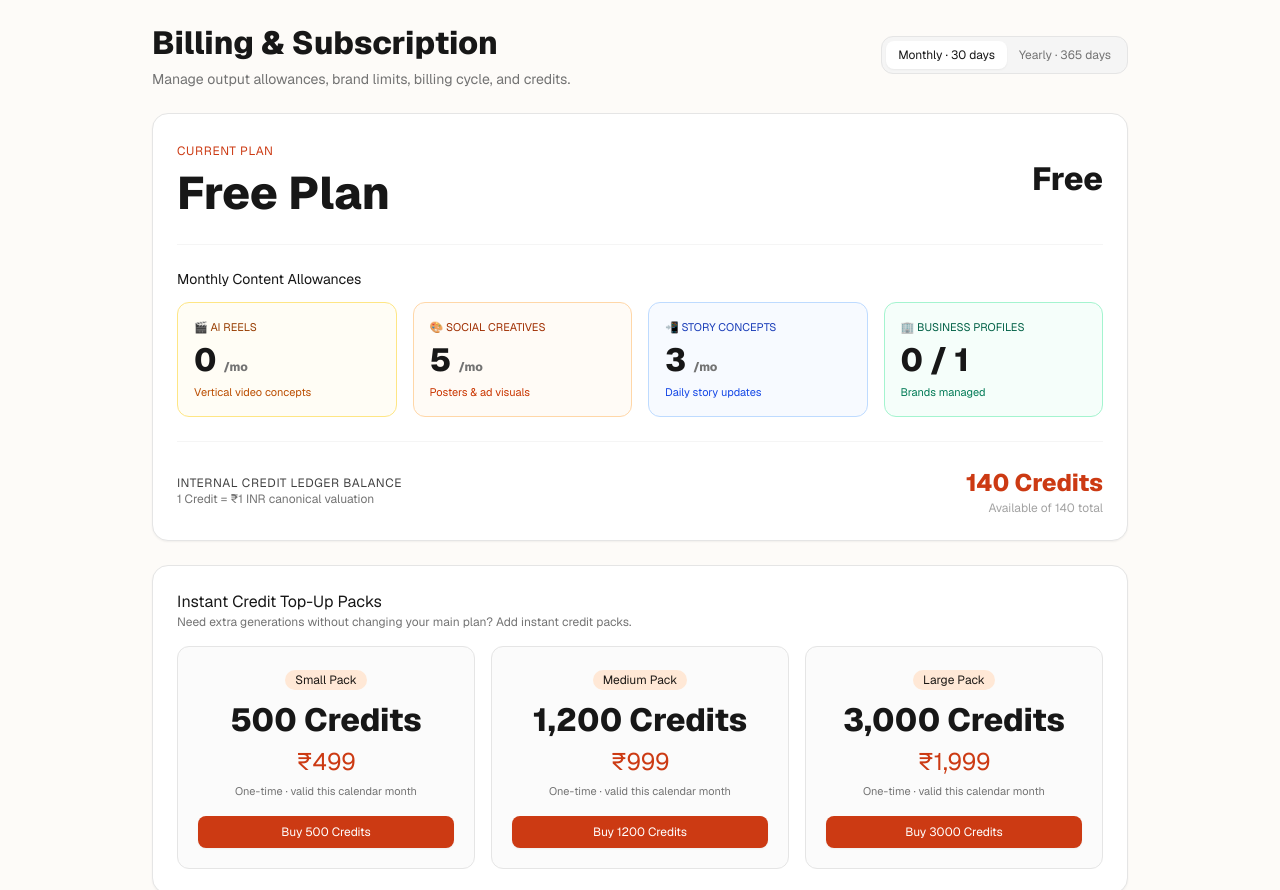
BillingPage — Cashfree pricing & checkout › failure: createCashfreeCheckout rejecting shows the error in the confirmation and allows a retry
Step 1. Click the button "Yearly · 365 days" → {"x": 1065, "y": 55}, box 1007,41 -> 1123,69
(page scrolled)
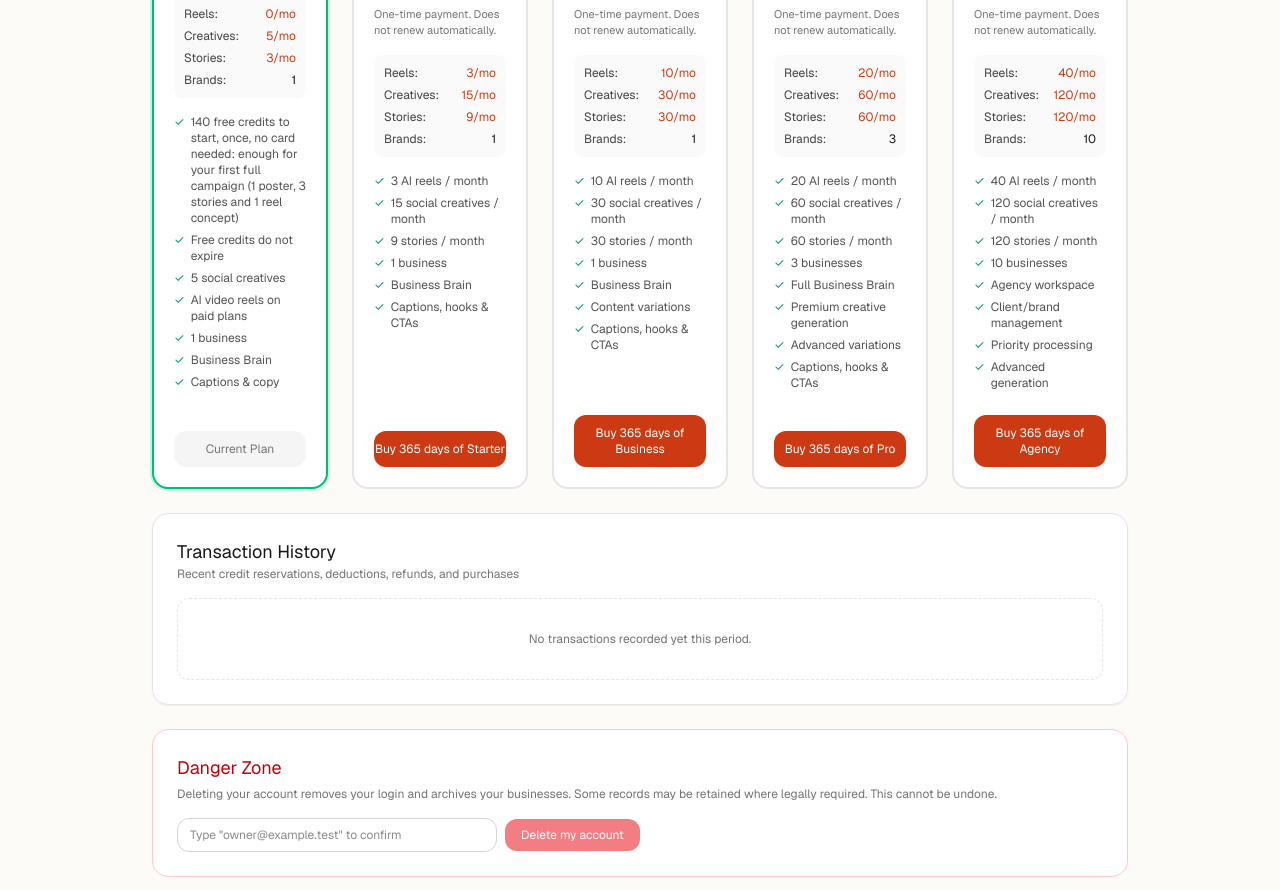
Step 2. Click the button "Buy 365 days of Business" → {"x": 640, "y": 441}, box 574,415 -> 706,467
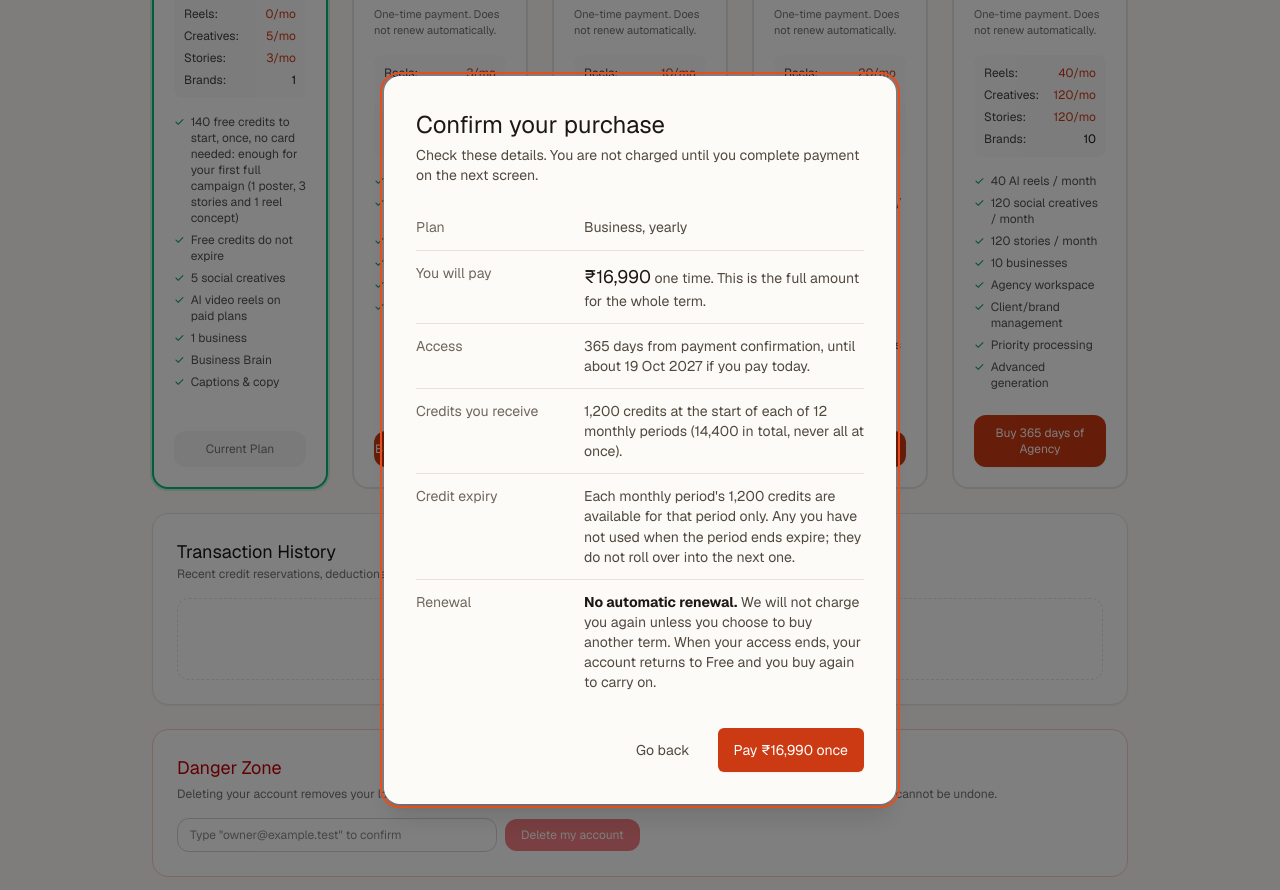
Step 3. Click the button "Pay ₹16,990 once" → {"x": 791, "y": 750}, box 718,728 -> 864,772
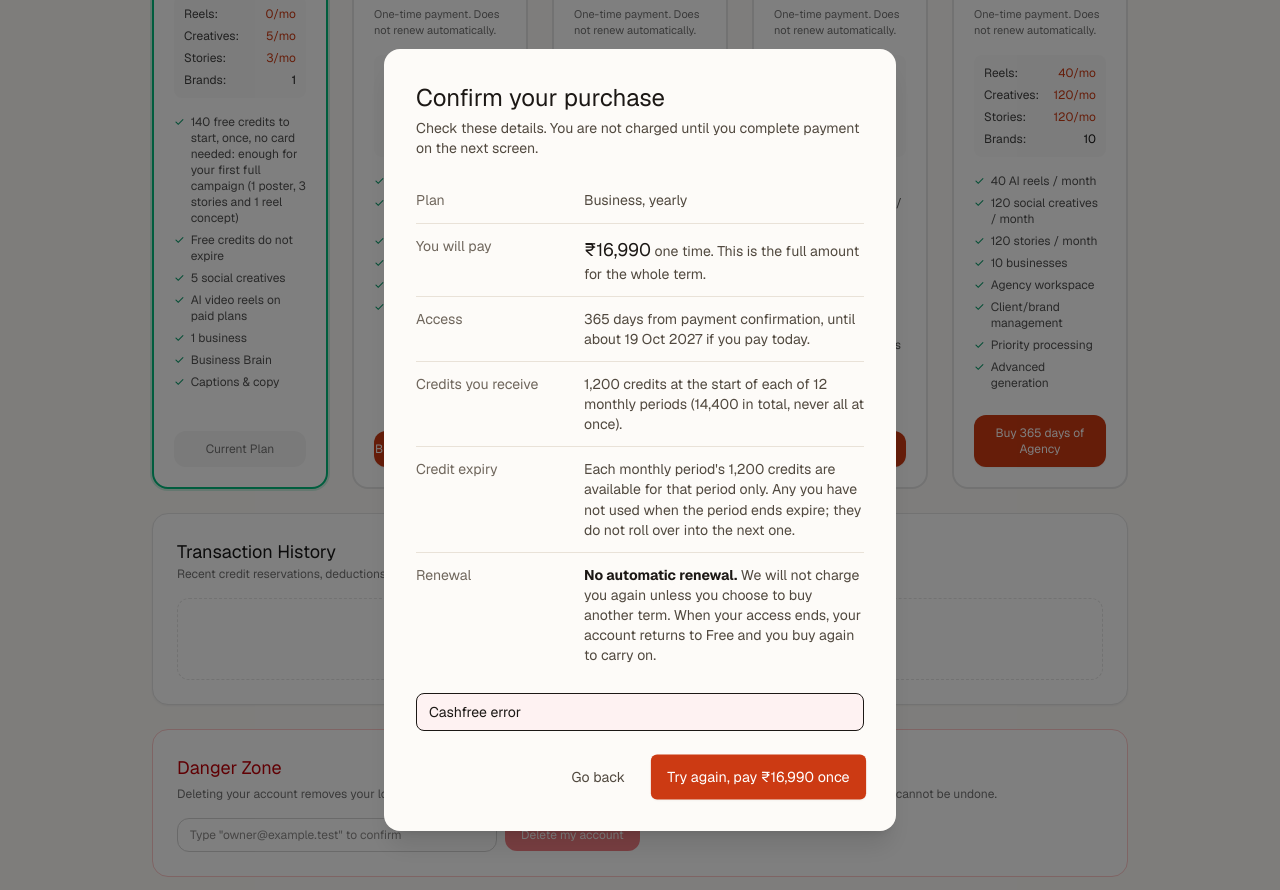
expect the button "Try again, pay ₹16,990 once" is enabled: met, box 651,755 -> 866,800
expect the message reads "Cashfree error": met, box 429,703 -> 521,721
